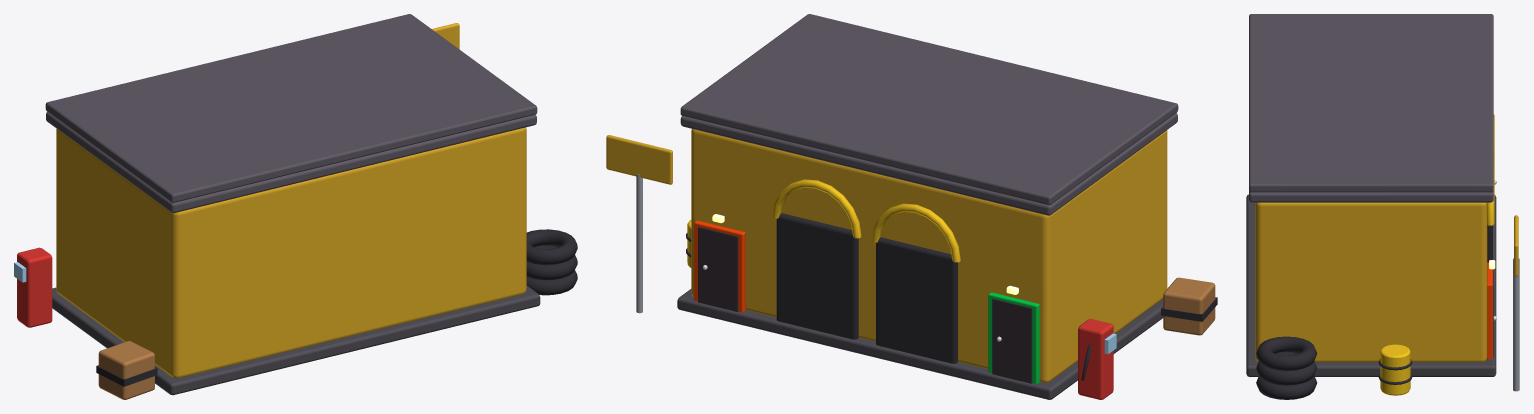
The model's file is building_vehicle_depot_t2.glb.
3 renders of one model, left to right at view 1: azimuth 30°, elevation 25°; view 2: azimuth 150°, elevation 25°; view 3: azimuth 270°, elevation 25°, orthographic. The views are drawn at different scales.
Visible parts, largest first — view 1: Walls, Roof.Parapet, Plinth, Roof.Slab, Pump, Crate.Box, Tyre2, Tyre1, Tyre0, Crate.Band; view 2: Walls, Roof.Parapet, Bay1, Bay0, Plinth, Roof.Slab, Entry.Leaf, Exit.Leaf, Pump, Sign.Plate, Crate.Box, Entry.Frame (+4 smaller); view 3: Roof.Parapet, Walls, Plinth, Roof.Slab, Tyre2, Drum1.Drum, Tyre1, Tyre0, Sign.Post, Exit.Frame, Sign.Plate, Bay1.Arch.
Boxes of the visible parts, x1,y1,x2,y2 form: Walls: (56, 127, 526, 378); Roof.Parapet: (45, 14, 537, 202); Plinth: (52, 285, 540, 395); Roof.Slab: (46, 112, 536, 213); Pump: (17, 247, 52, 327); Crate.Box: (98, 341, 154, 399); Tyre2: (526, 229, 577, 264); Tyre1: (526, 245, 577, 279); Tyre0: (526, 270, 577, 295); Crate.Band: (96, 365, 157, 386); Walls: (691, 129, 1167, 382); Roof.Parapet: (680, 14, 1178, 205); Bay1: (776, 213, 858, 339); Bay0: (876, 237, 957, 363); Plinth: (677, 289, 1163, 399); Roof.Slab: (680, 113, 1177, 215); Entry.Leaf: (992, 298, 1032, 383); Exit.Leaf: (698, 226, 738, 311); Pump: (1078, 319, 1113, 399); Sign.Plate: (606, 135, 672, 184); Crate.Box: (1163, 277, 1215, 335); Entry.Frame: (988, 292, 1039, 383); Roof.Parapet: (1249, 14, 1493, 192); Walls: (1255, 202, 1487, 362); Plinth: (1246, 194, 1496, 376); Roof.Slab: (1249, 191, 1493, 202); Tyre2: (1256, 336, 1317, 370); Drum1.Drum: (1380, 344, 1410, 395); Tyre1: (1256, 351, 1317, 385); Tyre0: (1256, 376, 1317, 399); Sign.Post: (1513, 258, 1519, 391); Exit.Frame: (1487, 262, 1492, 359); Sign.Plate: (1514, 215, 1518, 276); Bay1.Arch: (1487, 160, 1494, 225).
Size of the model in its own units: 6.55 by 2.64 by 3.39.
